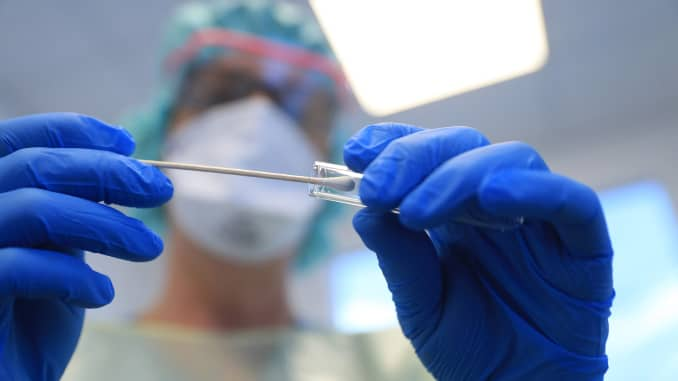Gloves: (342, 115, 616, 381), (1, 112, 172, 381)
